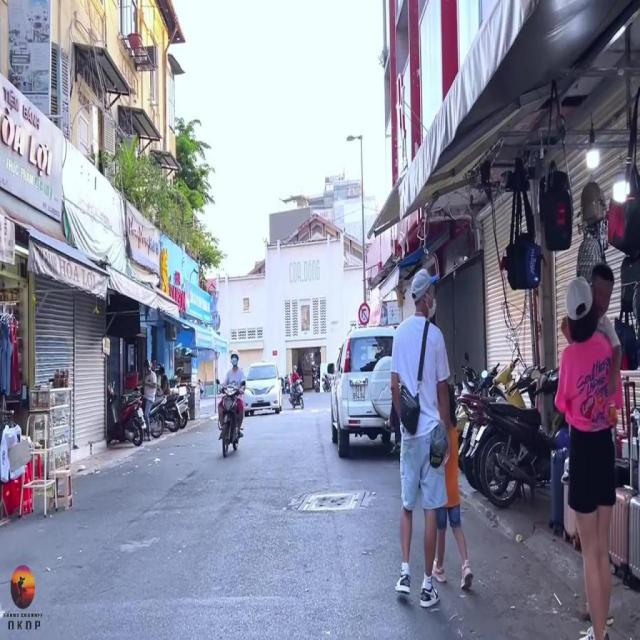cam_o_to_re_phai: (358, 300, 370, 324)
